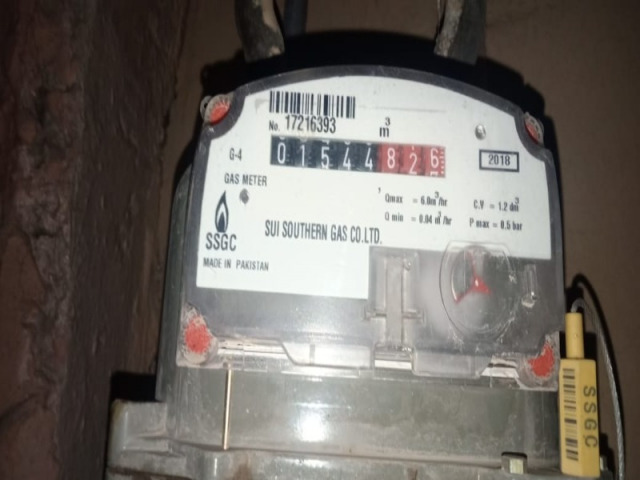ssgc: (267, 131, 448, 180)
